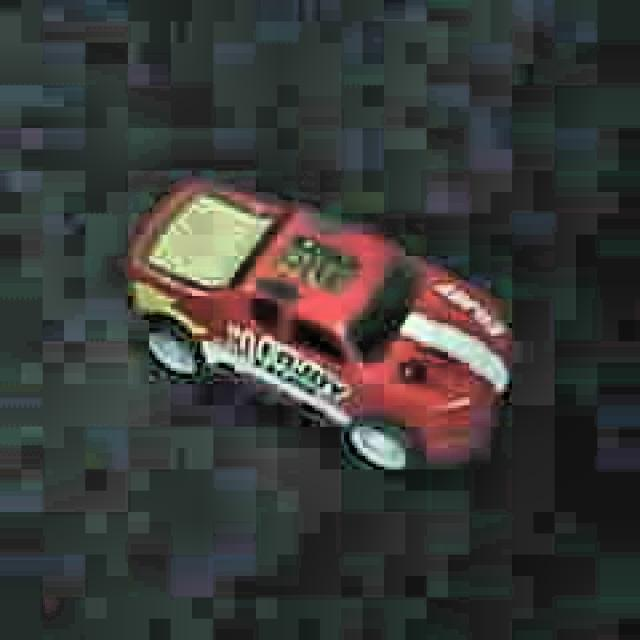car: (131, 175, 516, 474)
